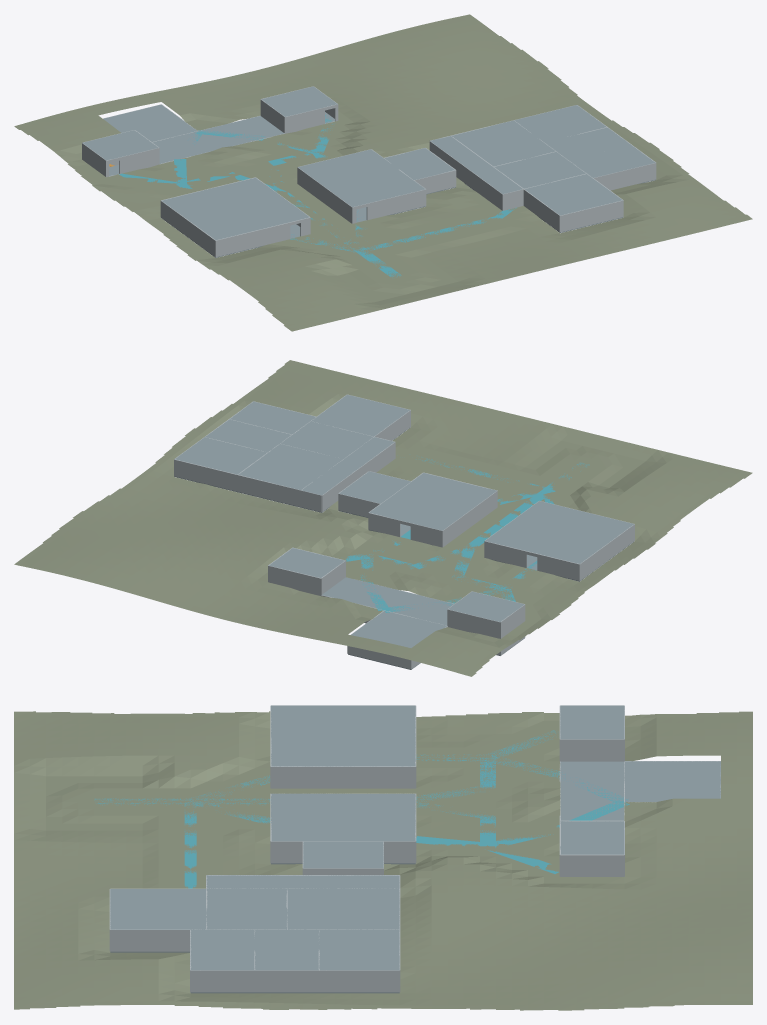
Rendered from rough-shell.glb.
The picture shows the model from 3 angles, top to bottom: view 1: azimuth 30°, elevation 25°; view 2: azimuth 150°, elevation 25°; view 3: azimuth 270°, elevation 25°; orthographic projection. The views are drawn at different scales.
Visible parts, largest first — view 1: Saved editor terrain WLD-07-MORTUARY, Ceiling cap chapel, Ceiling cap cottage, Ceiling cap mort-viewing, Ceiling cap mort-bay, Ceiling cap mort-prep, Ceiling cap chamber, Ceiling cap mort-reception, Ceiling cap mort-office, Ceiling cap mort-cold, Ceiling cap mort-hall, Wall chapel S (+16 smaller); view 2: Saved editor terrain WLD-07-MORTUARY, Ceiling cap chapel, Ceiling cap cottage, Ceiling cap mort-viewing, Ceiling cap mort-bay, Ceiling cap chamber, Ceiling cap mort-reception, Ceiling cap mort-prep, Ceiling cap mort-hall, Ceiling cap mort-cold, Ceiling cap mort-office, Ceiling cap west-stair (+18 smaller); view 3: Saved editor terrain WLD-07-MORTUARY, Ceiling cap chapel, Ceiling cap cottage, Ceiling cap mort-viewing, Ceiling cap mort-bay, Ceiling cap chamber, Wall chapel E, Ceiling cap mort-prep, Ceiling cap mort-reception, Ceiling cap mort-hall, Ceiling cap mort-office, Ceiling cap mort-cold (+16 smaller).
Part boxes in pixels (x1=…): Saved editor terrain WLD-07-MORTUARY: x1=14, y1=14, x2=752, y2=331; Ceiling cap chapel: x1=162, y1=177, x2=309, y2=239; Ceiling cap cottage: x1=298, y1=149, x2=425, y2=206; Ceiling cap mort-viewing: x1=452, y1=120, x2=555, y2=166; Ceiling cap mort-bay: x1=525, y1=174, x2=622, y2=215; Ceiling cap mort-prep: x1=514, y1=105, x2=606, y2=142; Ceiling cap chamber: x1=103, y1=104, x2=196, y2=141; Ceiling cap mort-reception: x1=494, y1=152, x2=585, y2=188; Ceiling cap mort-office: x1=569, y1=145, x2=655, y2=177; Ceiling cap mort-cold: x1=545, y1=127, x2=630, y2=160; Ceiling cap mort-hall: x1=430, y1=136, x2=522, y2=193; Wall chapel S: x1=215, y1=222, x2=290, y2=256; Saved editor terrain WLD-07-MORTUARY: x1=14, y1=360, x2=752, y2=676; Ceiling cap chapel: x1=485, y1=501, x2=633, y2=563; Ceiling cap cottage: x1=369, y1=473, x2=496, y2=530; Ceiling cap mort-viewing: x1=238, y1=444, x2=342, y2=490; Ceiling cap mort-bay: x1=311, y1=394, x2=409, y2=436; Ceiling cap chamber: x1=351, y1=611, x2=446, y2=647; Ceiling cap mort-reception: x1=280, y1=421, x2=373, y2=458; Ceiling cap mort-prep: x1=175, y1=437, x2=267, y2=474; Ceiling cap mort-hall: x1=301, y1=437, x2=394, y2=495; Ceiling cap mort-cold: x1=205, y1=419, x2=291, y2=452; Ceiling cap mort-office: x1=230, y1=401, x2=315, y2=434; Ceiling cap west-stair: x1=448, y1=591, x2=524, y2=621; Saved editor terrain WLD-07-MORTUARY: x1=14, y1=711, x2=752, y2=1010; Ceiling cap chapel: x1=271, y1=705, x2=415, y2=766; Ceiling cap cottage: x1=271, y1=793, x2=415, y2=841; Ceiling cap mort-viewing: x1=287, y1=889, x2=399, y2=929; Ceiling cap mort-bay: x1=110, y1=889, x2=206, y2=929; Ceiling cap chamber: x1=624, y1=761, x2=720, y2=801; Wall chapel E: x1=271, y1=766, x2=415, y2=788; Ceiling cap mort-prep: x1=319, y1=929, x2=399, y2=970; Ceiling cap mort-reception: x1=206, y1=889, x2=286, y2=929; Ceiling cap mort-hall: x1=206, y1=875, x2=399, y2=888; Ceiling cap mort-office: x1=190, y1=929, x2=254, y2=970; Ceiling cap mort-cold: x1=255, y1=929, x2=319, y2=970.
Size of the model in its own units: 88 by 6.16 by 92.
